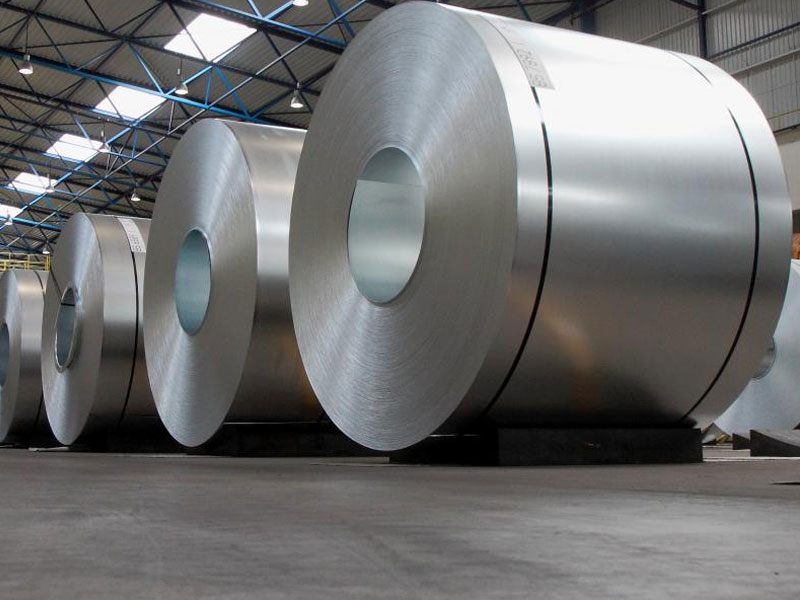steel-coil: (48, 5, 778, 451), (48, 46, 778, 451), (298, 11, 791, 429)
